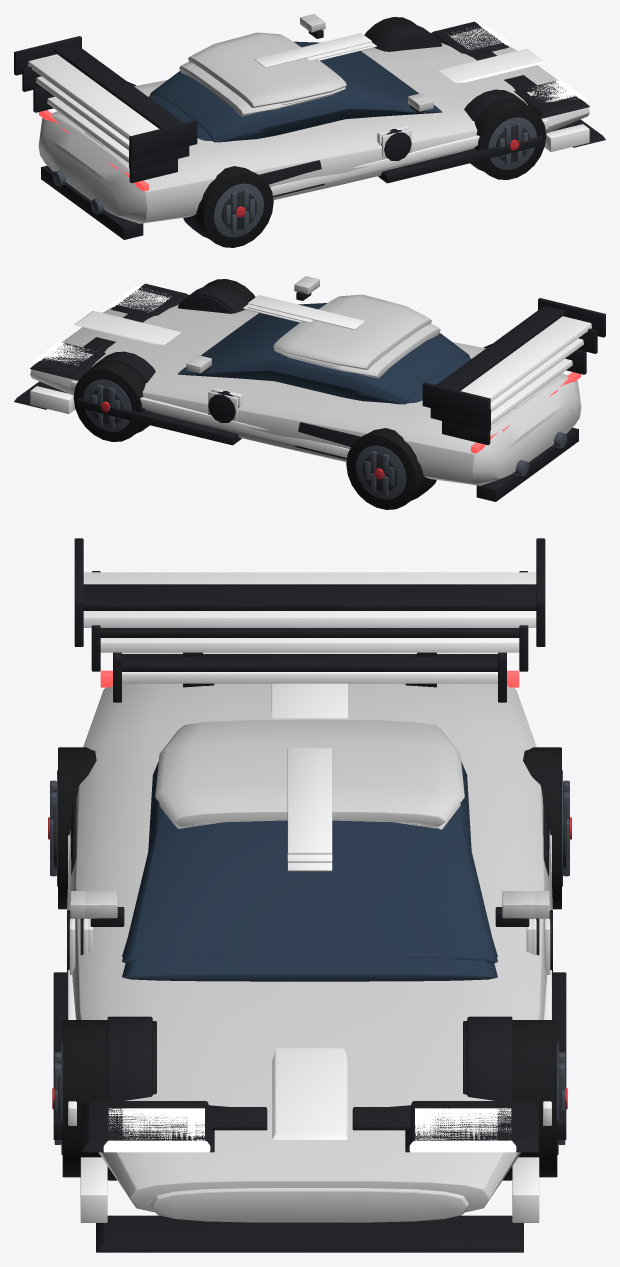
Rendered from race.glb.
The picture shows the model from 3 angles, top to bottom: view 1: azimuth 30°, elevation 25°; view 2: azimuth 150°, elevation 25°; view 3: azimuth 270°, elevation 25°; orthographic projection. The views are drawn at different scales.
Parts seen in each view (by area): view 1: wide, gt, long; view 2: wide, gt, long; view 3: wide, gt, long.
Part boxes in pixels (bbox=[...]): wide: bbox=[14, 14, 605, 247]; gt: bbox=[22, 17, 593, 238]; long: bbox=[33, 17, 596, 225]; wide: bbox=[14, 276, 605, 509]; gt: bbox=[28, 279, 597, 501]; long: bbox=[22, 279, 586, 486]; wide: bbox=[48, 538, 571, 1252]; gt: bbox=[73, 571, 546, 1251]; long: bbox=[88, 652, 531, 1251].
Bounding box in the file's own units: 4.93 × 1.3 × 2.33.
